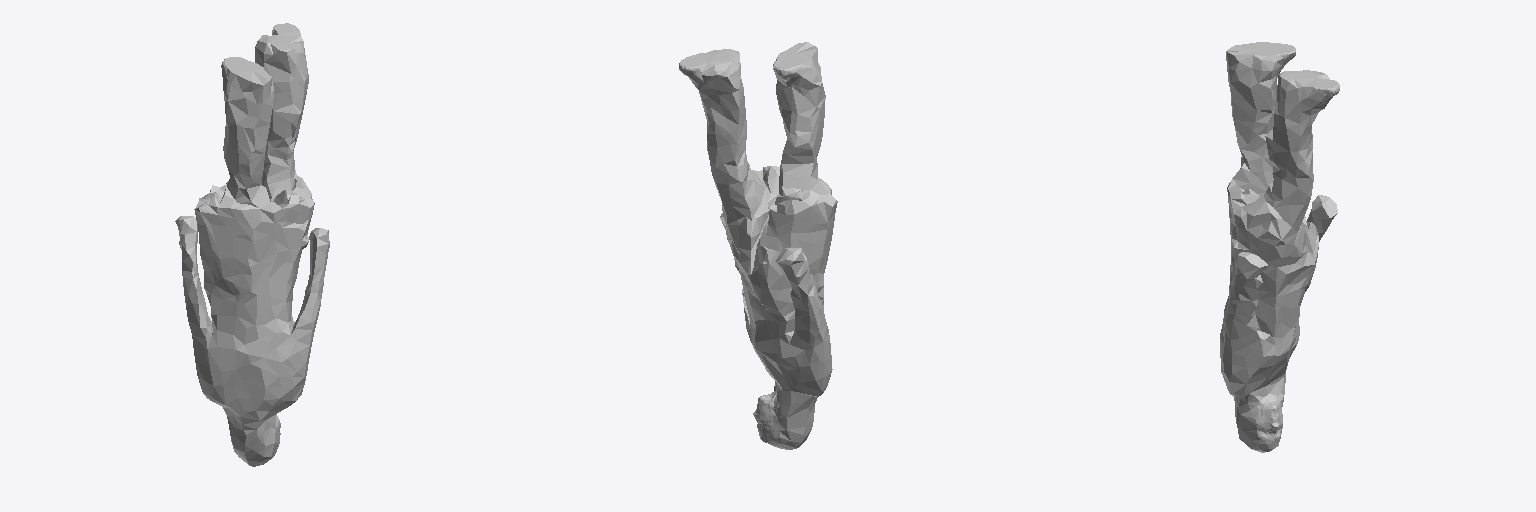
3 renders of one model, left to right at view 1: azimuth 30°, elevation 25°; view 2: azimuth 150°, elevation 25°; view 3: azimuth 270°, elevation 25°, orthographic.
Parts seen in each view (by area): view 1: pF03; view 2: pF03; view 3: pF03.
Boxes of the visible parts, x1,y1,x2,y2 form: pF03: [175, 23, 329, 466]; pF03: [679, 42, 837, 449]; pF03: [1220, 42, 1339, 452].
Bounding box in the file's own units: 54.8 × 164 × 45.38.